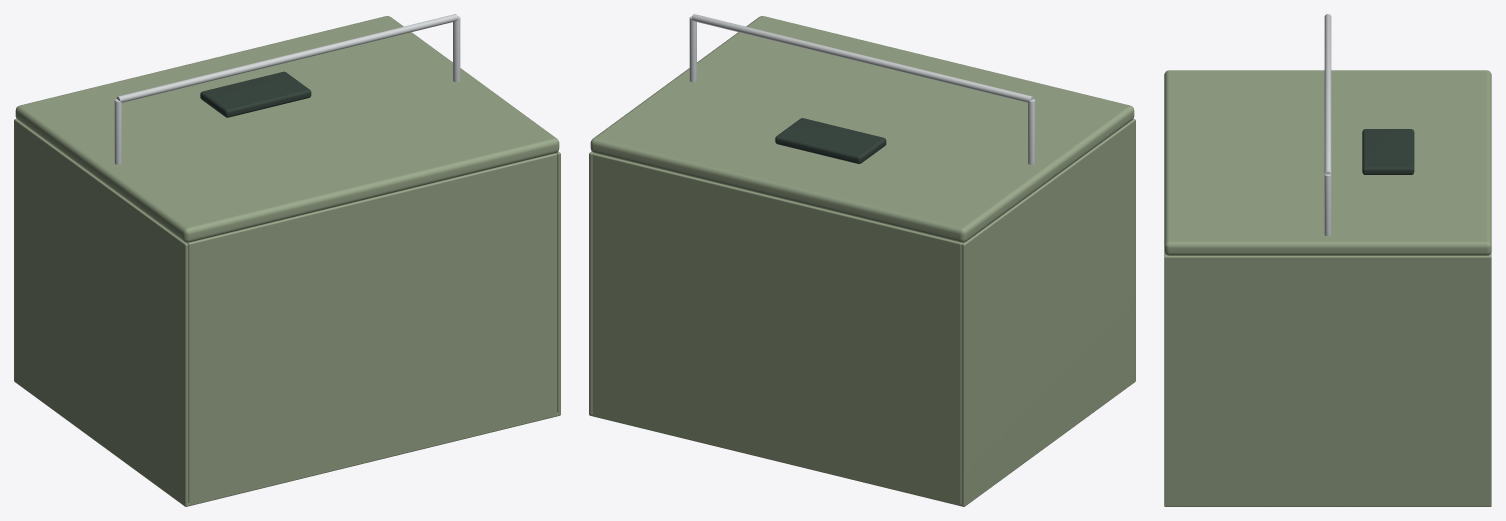
Rendered from compost-caddy.glb.
3 views of the same model, side by side, from view 1: azimuth 30°, elevation 25°; view 2: azimuth 150°, elevation 25°; view 3: azimuth 270°, elevation 25° (orthographic). The views are drawn at different scales.
Parts seen in each view (by area): view 1: Outer caddy front, Lift-off lid, Outer caddy left, Removable vent cartridge, Wire bail grip, Outer caddy right, Outer caddy floor; view 2: Outer caddy back, Lift-off lid, Outer caddy left, Removable vent cartridge, Wire bail grip, Outer caddy right, Outer caddy floor; view 3: Outer caddy right, Lift-off lid, Removable vent cartridge, Wire bail grip, Wire bail upright.001, Outer caddy floor.
Part boxes in pixels (left/top/right/bottom): Outer caddy front: left=187, top=153, right=557, bottom=504; Lift-off lid: left=15, top=16, right=559, bottom=242; Outer caddy left: left=14, top=118, right=188, bottom=505; Removable vent cartridge: left=200, top=71, right=311, bottom=117; Wire bail grip: left=116, top=14, right=458, bottom=102; Outer caddy right: left=556, top=151, right=560, bottom=414; Outer caddy floor: left=61, top=413, right=560, bottom=506; Outer caddy back: left=592, top=153, right=962, bottom=505; Lift-off lid: left=590, top=16, right=1134, bottom=242; Outer caddy left: left=961, top=118, right=1135, bottom=506; Removable vent cartridge: left=775, top=118, right=886, bottom=163; Wire bail grip: left=691, top=14, right=1033, bottom=102; Outer caddy right: left=589, top=151, right=593, bottom=415; Outer caddy floor: left=589, top=390, right=1123, bottom=506; Outer caddy right: left=1164, top=255, right=1491, bottom=506; Lift-off lid: left=1164, top=70, right=1491, bottom=255; Removable vent cartridge: left=1362, top=129, right=1414, bottom=174; Wire bail grip: left=1324, top=14, right=1331, bottom=174; Wire bail upright.001: left=1324, top=174, right=1331, bottom=235; Outer caddy floor: left=1164, top=505, right=1491, bottom=506.
Bounding box in the file's own units: 0.24 × 0.21 × 0.19.
